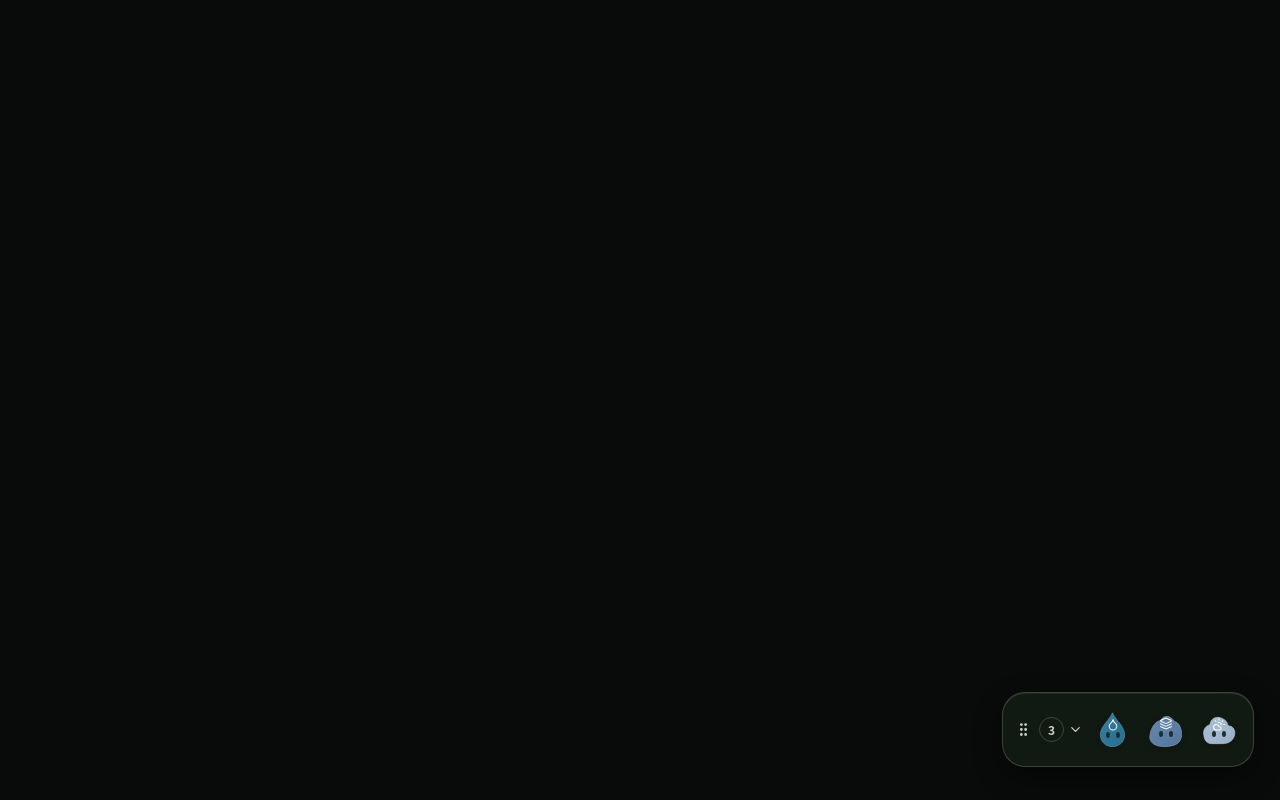
loads only the chosen bot's authenticated conversation and restores focus on collapse
This screenshot has width=1280, height=800.
Click the button named "Open Water specialist" at (1112, 730), box [1088, 705, 1137, 754]
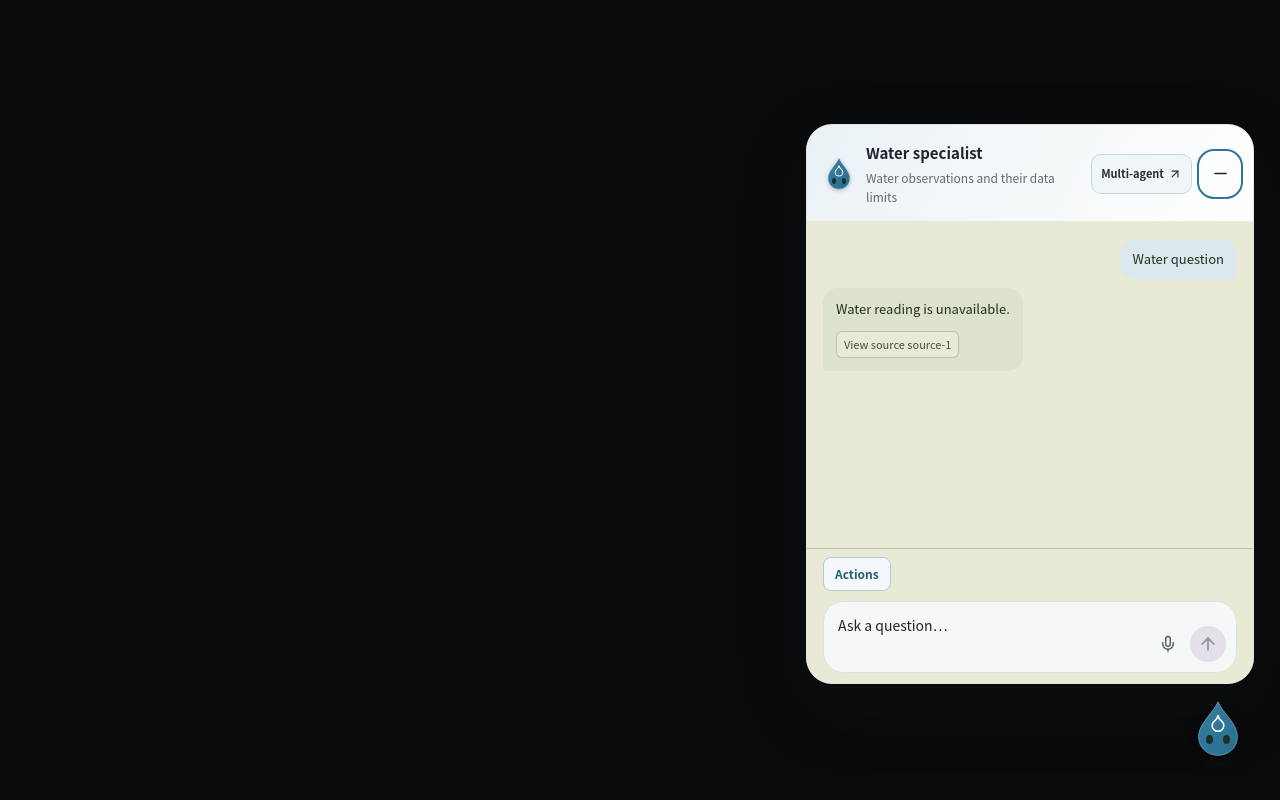
Expected: the text "Soil question" is not shown
Expected: the text "Water question" is shown, [1120, 239, 1237, 279]
Press Escape in the dialog, box [806, 124, 1254, 684]
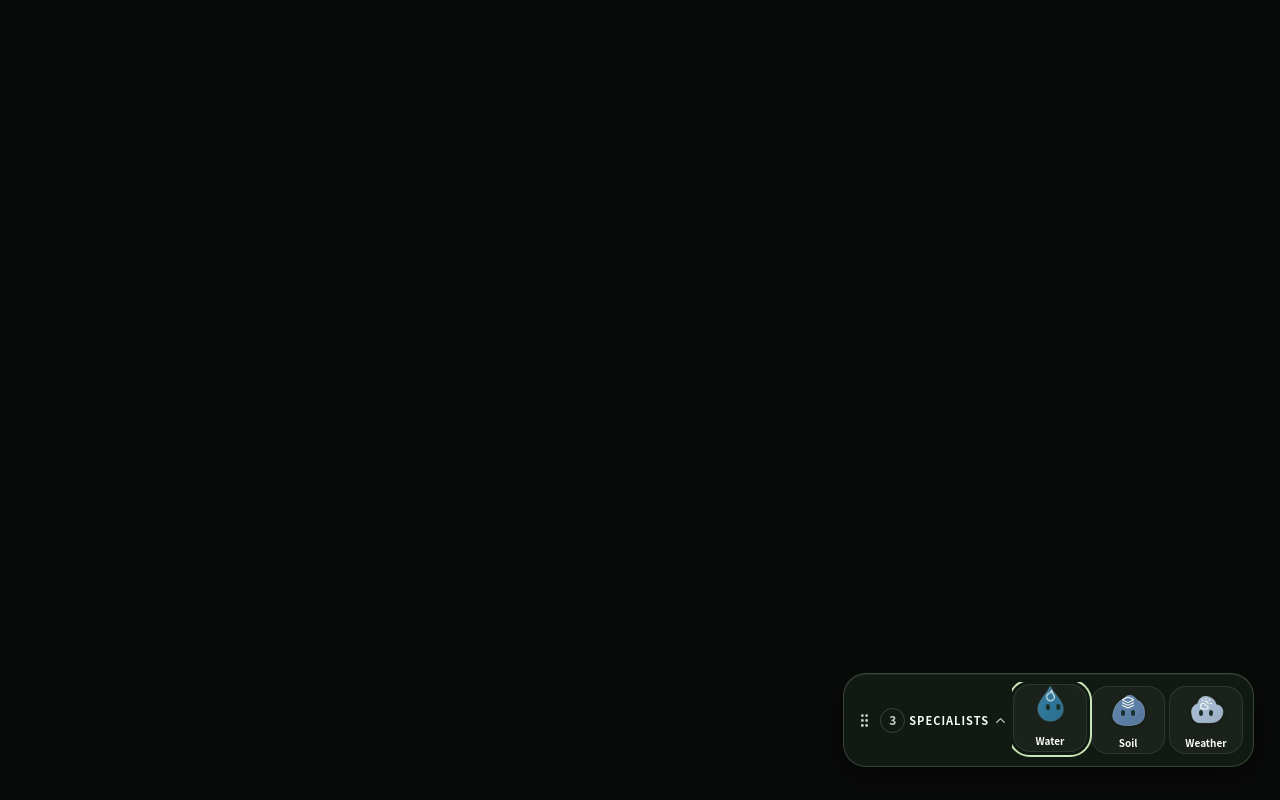
Click the button with aria-label "Open Soil specialist" at (1128, 720), box [1091, 686, 1165, 754]
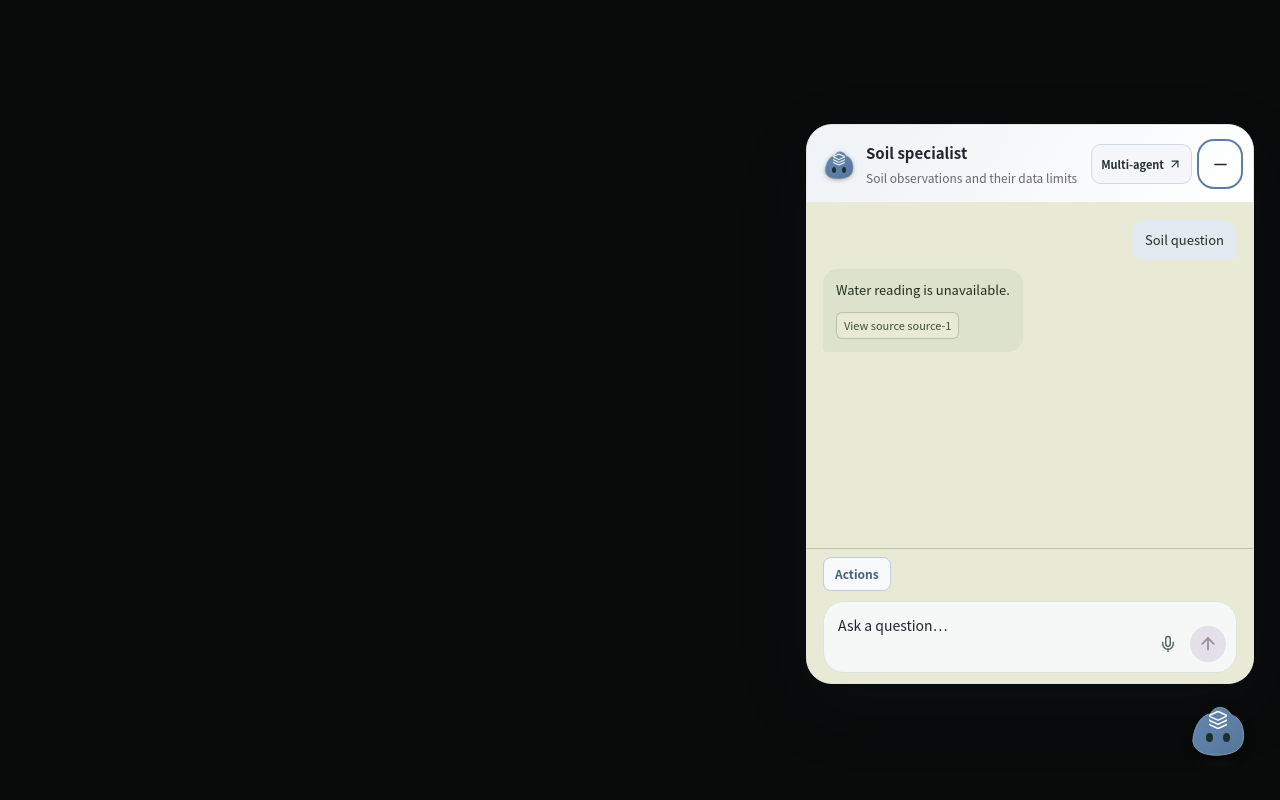
Expected: the text "Water question" is not shown
Expected: the text "Soil question" is shown, [1132, 220, 1237, 260]
